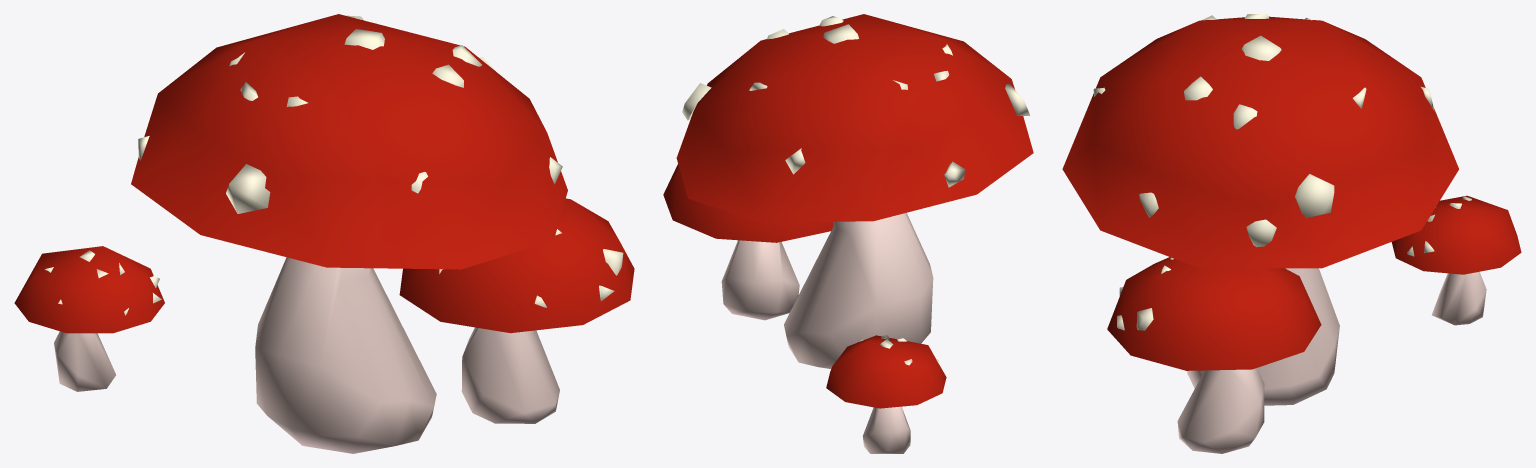
Rendered from Cogumelo.glb.
3 views of the same model, side by side, from view 1: azimuth 30°, elevation 25°; view 2: azimuth 150°, elevation 25°; view 3: azimuth 270°, elevation 25° (orthographic). The views are drawn at different scales.
Parts seen in each view (by area): view 1: Cogumelos; view 2: Cogumelos; view 3: Cogumelos.
Boxes of the visible parts, <box> form: Cogumelos: <box>14,14,634,453</box>; Cogumelos: <box>663,14,1033,453</box>; Cogumelos: <box>1062,14,1521,453</box>.
Size of the model in its own units: 1.42 by 1.15 by 1.4.
Materials: 1 (1 with a texture image).
